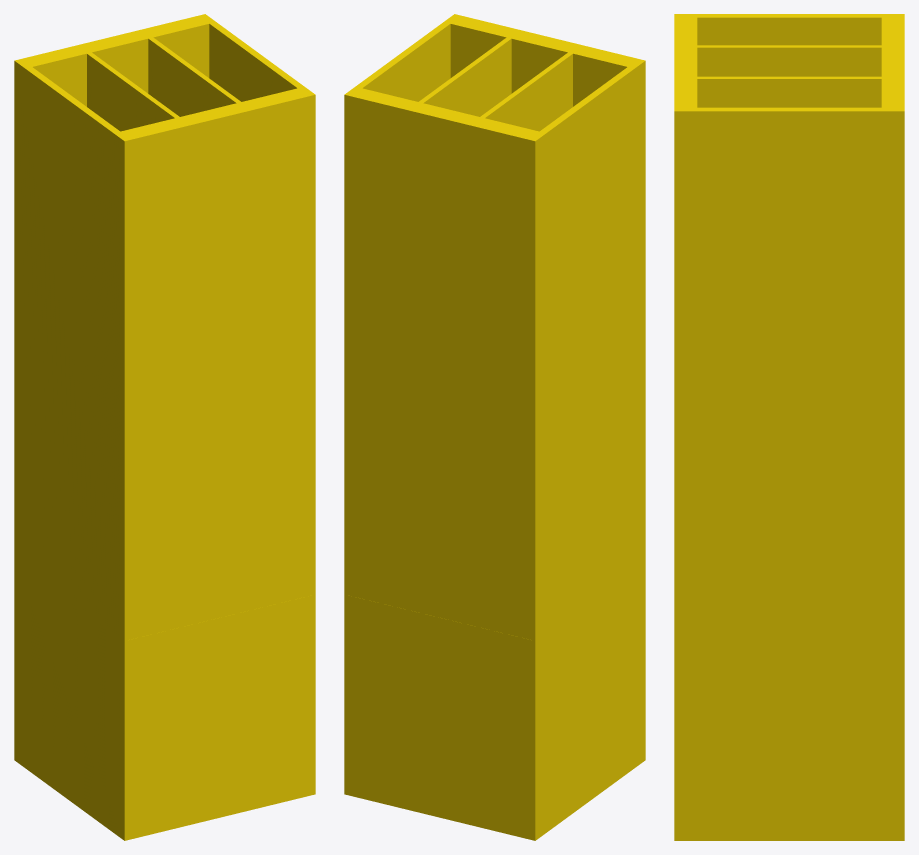
The picture shows the model from 3 angles, left to right: view 1: azimuth 30°, elevation 25°; view 2: azimuth 150°, elevation 25°; view 3: azimuth 270°, elevation 25°; orthographic projection. The views are drawn at different scales.
Visible parts, largest first — view 1: tmp_export_Cube.020; view 2: tmp_export_Cube.020; view 3: tmp_export_Cube.020.
Part boxes in pixels (x1,y1,x2,y2): tmp_export_Cube.020: (14,14,315,840); tmp_export_Cube.020: (344,14,645,840); tmp_export_Cube.020: (674,14,904,840).
Bounding box in the file's own units: 2 × 2 × 7.
